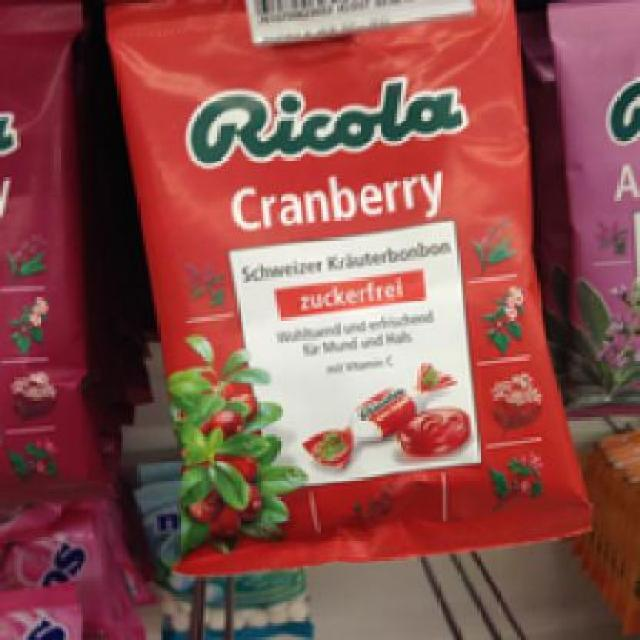Candy: (106, 6, 592, 554)
